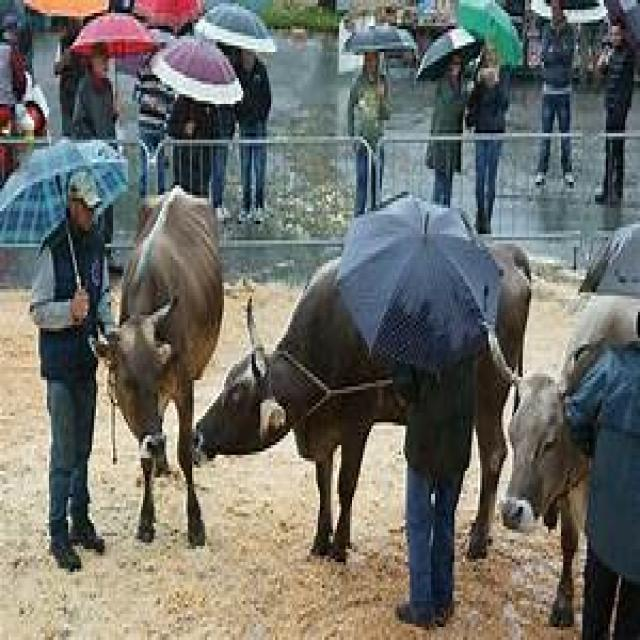cow: (194, 260, 403, 562), (501, 292, 640, 627), (102, 188, 226, 549)
